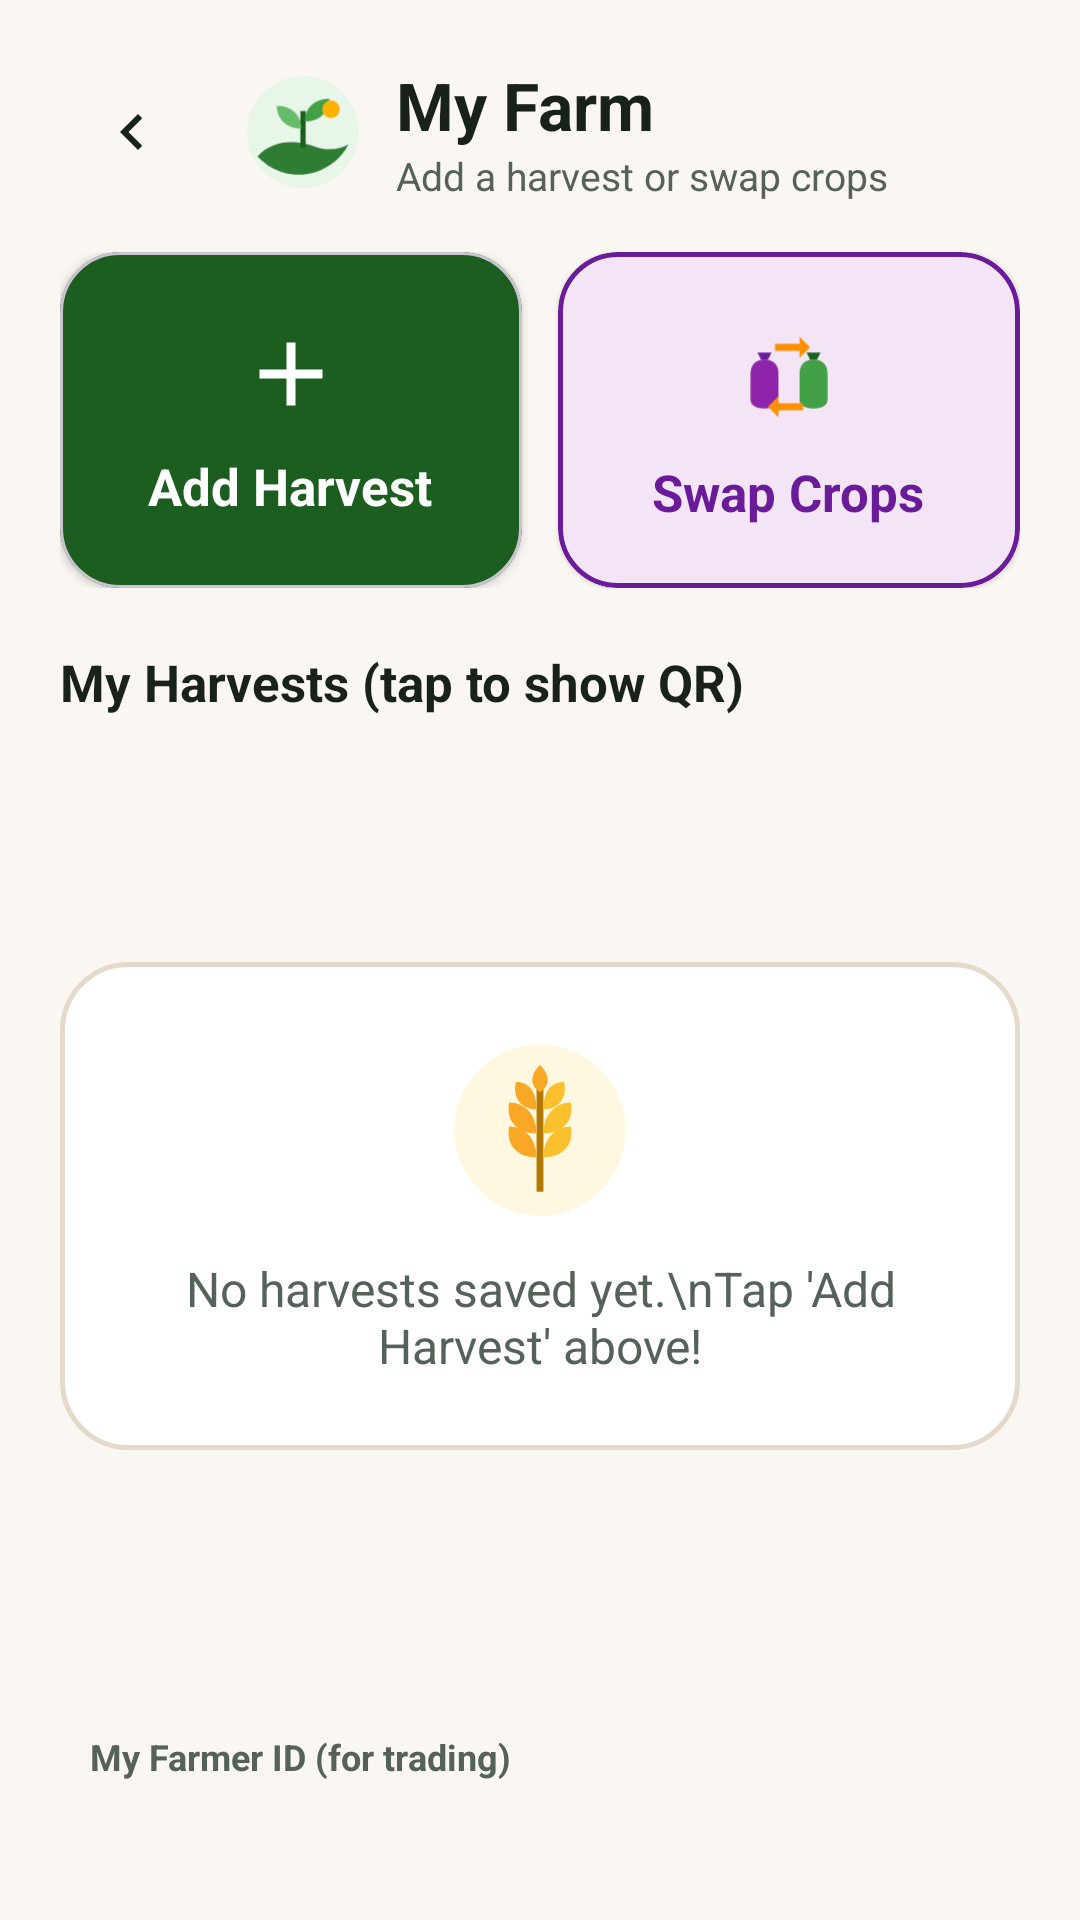

Named icons in this screenshot (1080*1920) and their bounding boxes, (x1, y1, x2, y2):
Back: (120, 114, 142, 150)
Farmer: (247, 76, 359, 188)
